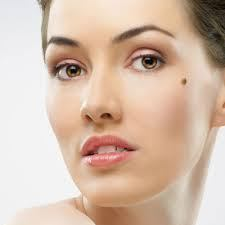mole: (175, 72, 192, 88)
